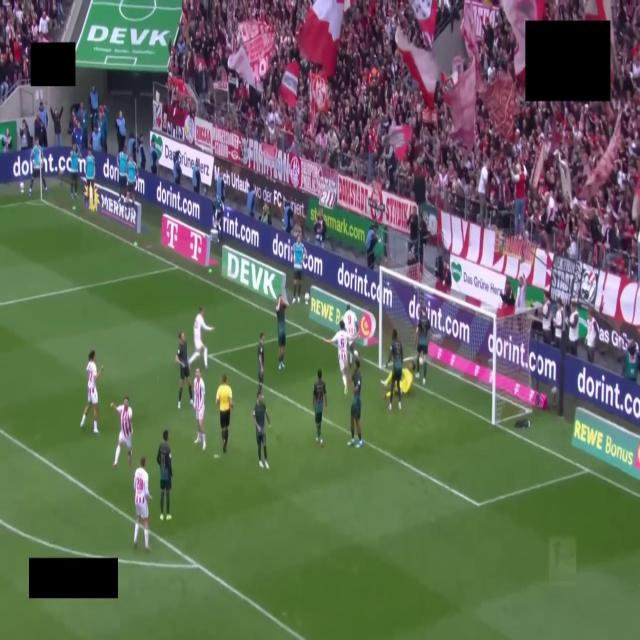player: (80, 350, 103, 433), (324, 320, 348, 394), (134, 456, 152, 551), (189, 307, 214, 368), (111, 397, 132, 468), (175, 332, 193, 408), (157, 430, 172, 520), (253, 391, 270, 469), (387, 329, 403, 409), (348, 360, 362, 447), (415, 304, 430, 383), (313, 369, 327, 447), (343, 304, 358, 365), (194, 368, 205, 450), (276, 296, 288, 369), (400, 362, 415, 394), (258, 333, 264, 392)
referee: (216, 375, 232, 453)
